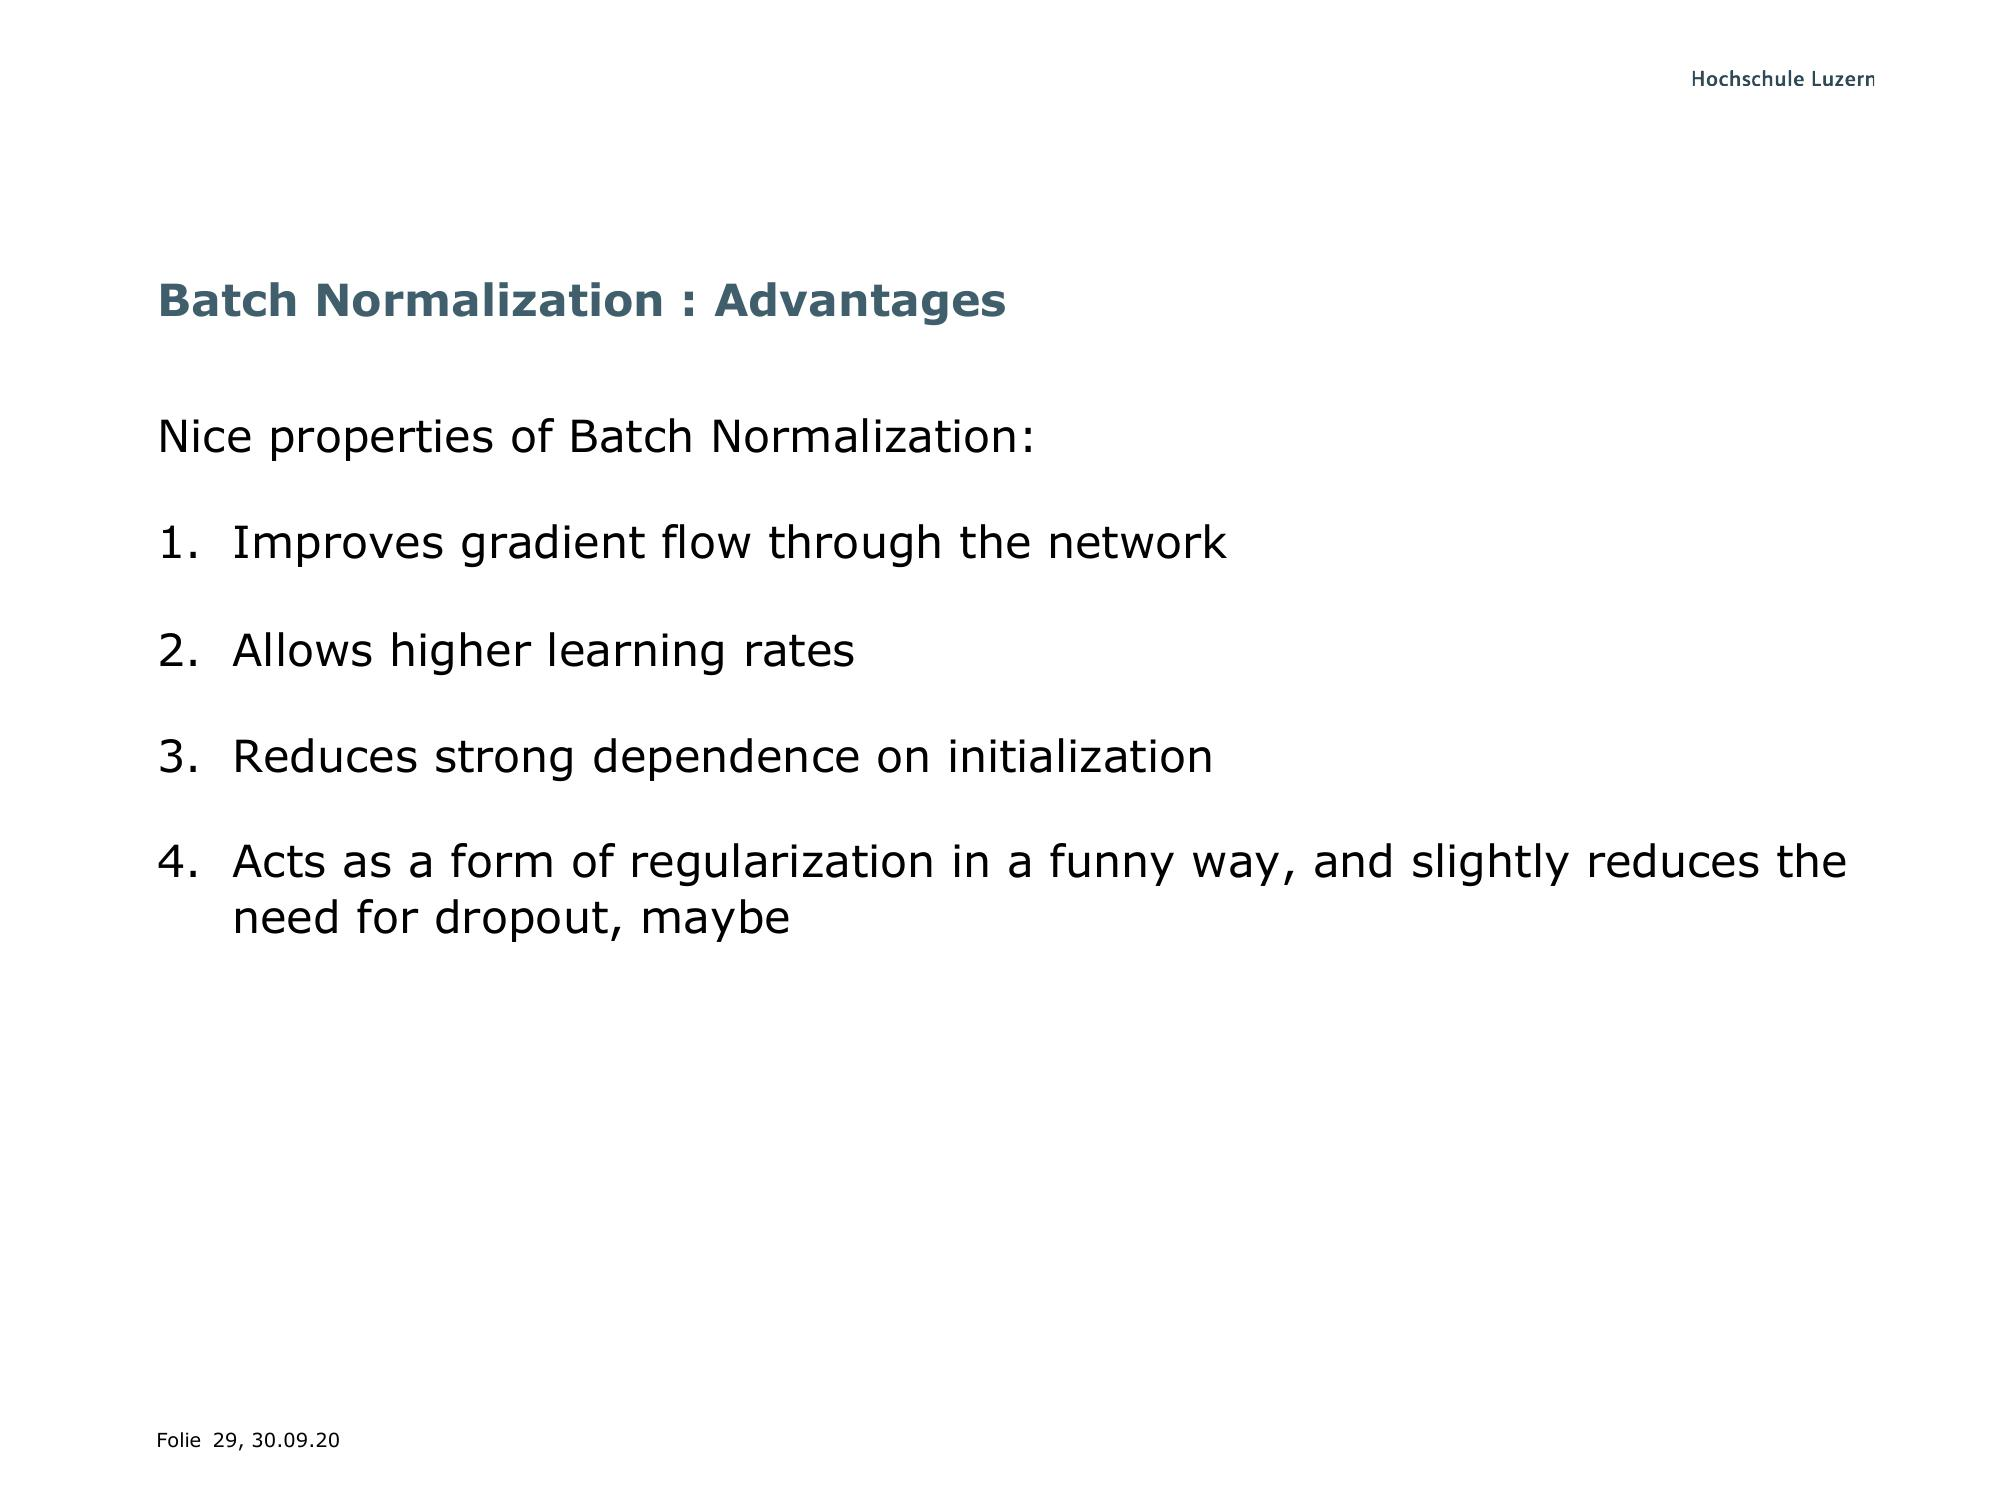Title: (132, 254, 1027, 342)
